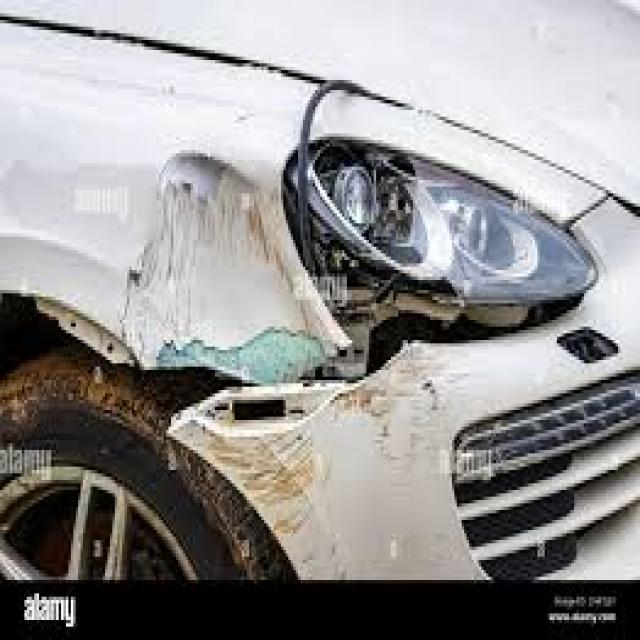damaged-head-light: (286, 135, 595, 318)
